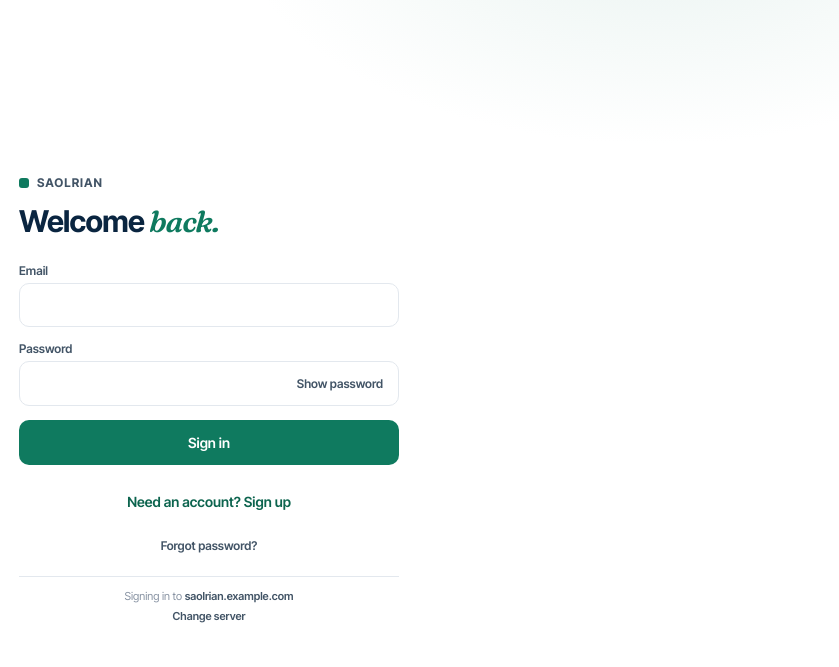
it: Auth — password reset › asks for an email first when the field is empty
The width and height of the screenshot is (839, 667).
Click the button "Forgot password?".
click(209, 546)  # box [19,538,399,554]
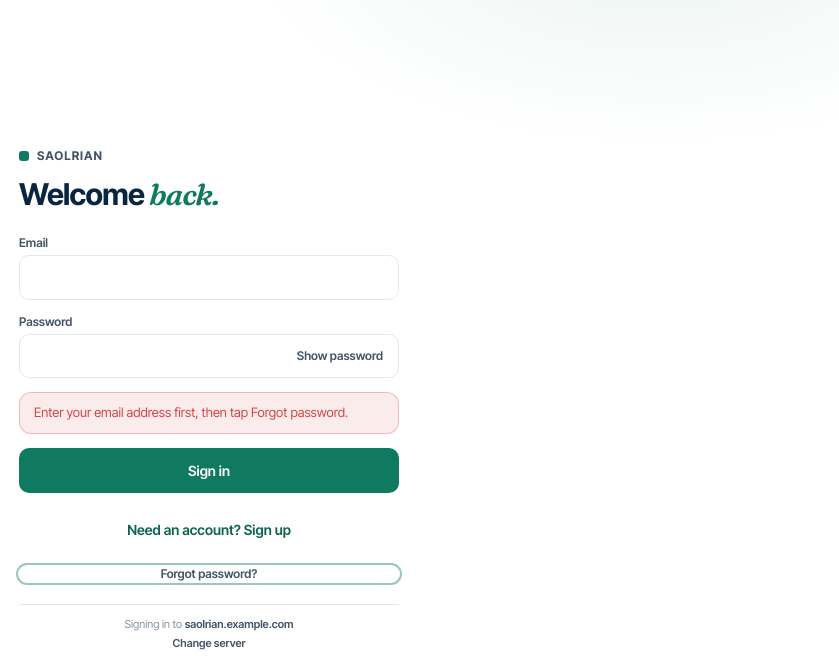
Expected: the message shows "email", [34,404,348,420]
